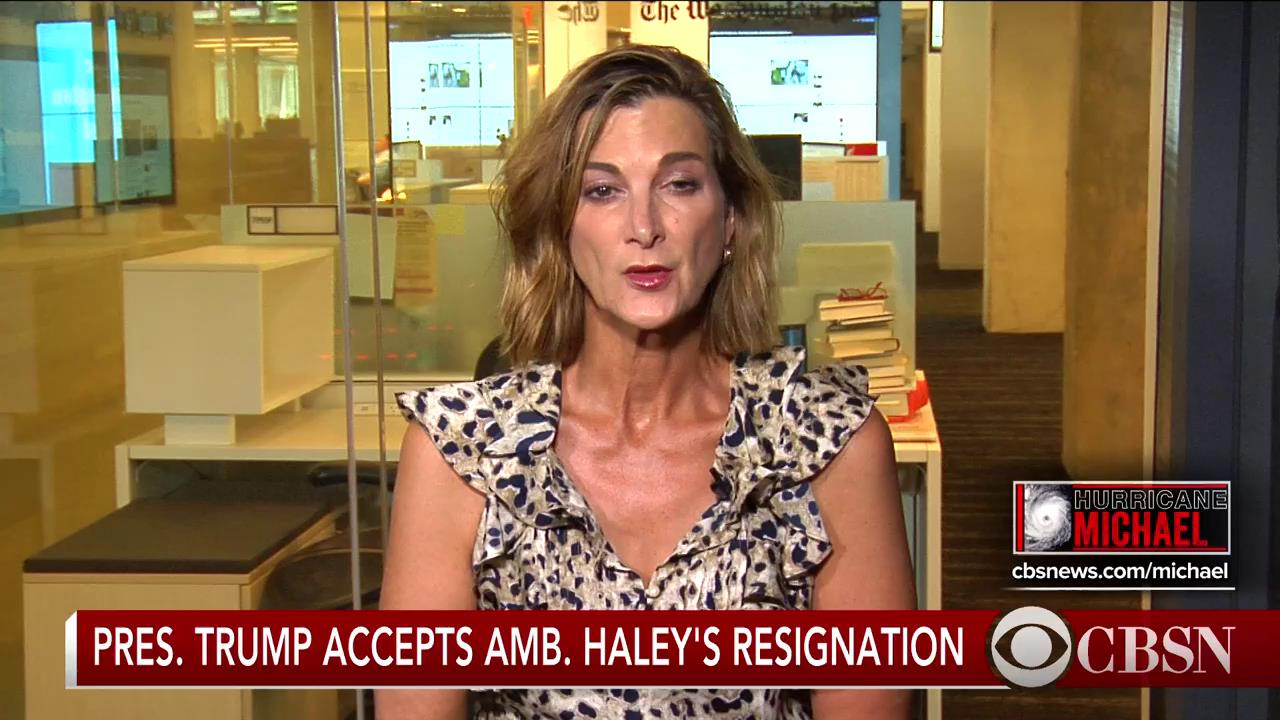CBSN: (1076, 623, 1239, 676)
HURRICANE: (1071, 485, 1227, 509)
MICHAEL: (1072, 510, 1205, 545)
PRES. TRUMP ACCEPTS AMB. HALEY'S RESIGNATION: (89, 618, 965, 668)
The: (635, 1, 682, 21)
cbsnews.com/michael: (1010, 559, 1231, 583)
